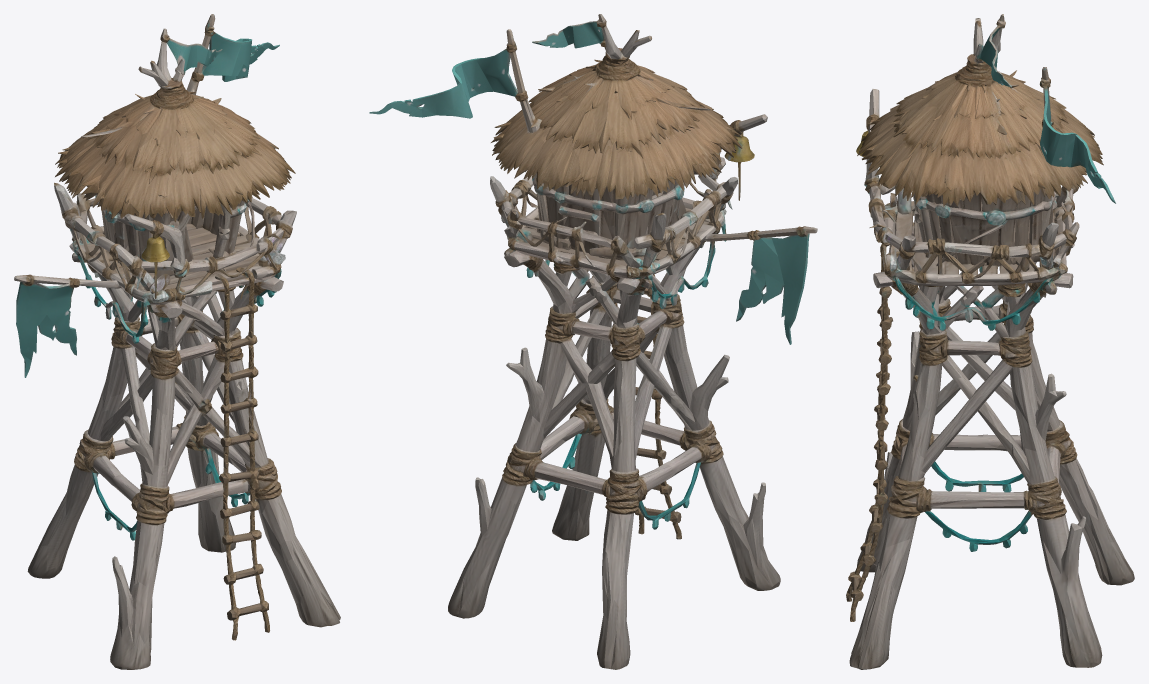
The model's file is lookout_tower.glb.
3 views of the same model, side by side, from view 1: azimuth 30°, elevation 25°; view 2: azimuth 150°, elevation 25°; view 3: azimuth 270°, elevation 25° (orthographic). The views are drawn at different scales.
Visible parts, largest first — view 1: Mesh_0; view 2: Mesh_0; view 3: Mesh_0.
Boxes of the visible parts, box(x1,y1,x2,y2) form: Mesh_0: box(14, 14, 340, 669); Mesh_0: box(369, 14, 817, 669); Mesh_0: box(846, 14, 1134, 669).
Size of the model in its own units: 1.22 by 1.9 by 0.8298.
1 material, 1 textured.
